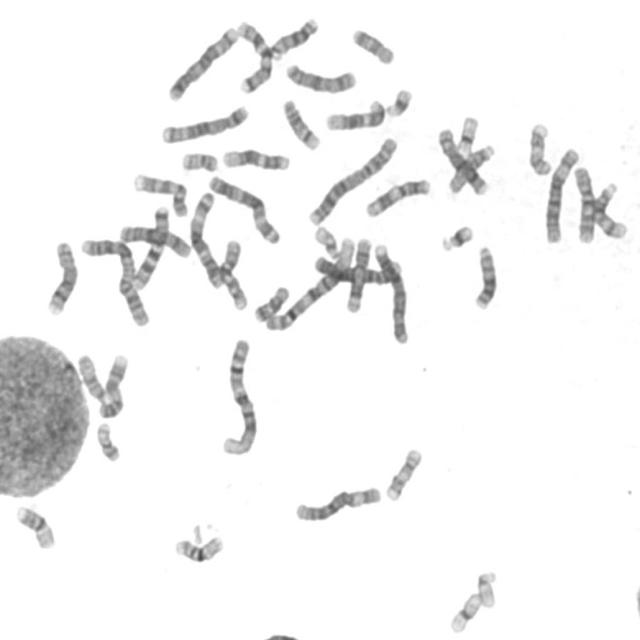A1: (260, 231, 358, 333), (217, 333, 259, 457)
A2: (304, 131, 400, 227), (76, 231, 152, 328)
A3: (202, 169, 282, 246), (185, 184, 224, 288)
B4: (369, 238, 411, 346), (309, 252, 404, 286)
B5: (163, 19, 240, 102), (157, 98, 251, 145)
C10: (213, 234, 249, 312), (568, 159, 598, 245)
C11: (360, 172, 433, 218), (342, 231, 374, 314)
C12: (320, 92, 388, 132), (218, 142, 292, 172)
C6: (539, 141, 581, 245), (290, 480, 383, 524)
C7: (128, 200, 172, 290), (232, 15, 274, 95)
C8: (434, 122, 491, 196), (42, 234, 80, 317)
C9: (129, 167, 190, 218), (94, 348, 130, 420)
D13: (265, 11, 320, 61), (469, 239, 499, 312)
D14: (588, 176, 629, 240), (278, 93, 322, 152)
D15: (443, 138, 498, 195), (73, 348, 109, 404)
E16: (12, 500, 58, 550), (169, 528, 227, 564)
E17: (380, 442, 424, 502), (524, 116, 554, 178)
E18: (348, 21, 397, 66), (250, 280, 291, 324)
F19: (444, 586, 484, 635), (452, 110, 480, 154)
F20: (91, 416, 122, 463), (177, 146, 219, 173)
G21: (436, 218, 476, 253), (381, 82, 414, 119)
G22: (310, 220, 343, 260), (472, 564, 500, 609)
X: (114, 219, 193, 259), (281, 57, 358, 95)
